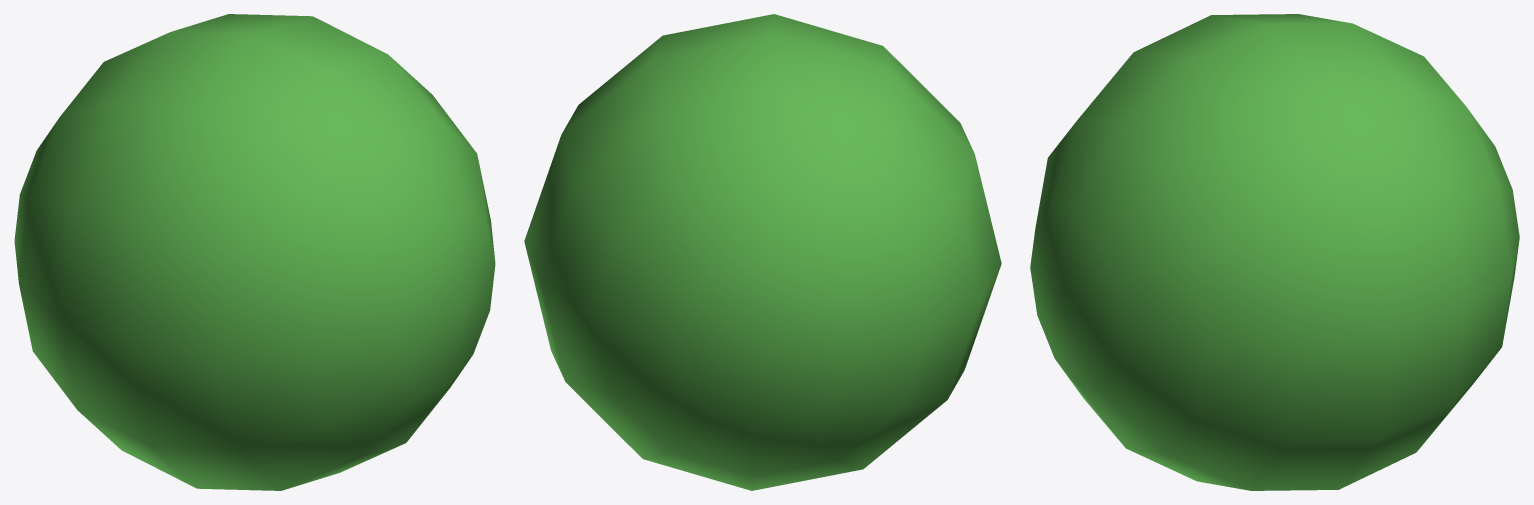
The model's file is linfatico-nasolabial-node-l.glb.
3 views of the same model, side by side, from view 1: azimuth 30°, elevation 25°; view 2: azimuth 150°, elevation 25°; view 3: azimuth 270°, elevation 25° (orthographic). The views are drawn at different scales.
Visible parts, largest first — view 1: Nasolabial node.l; view 2: Nasolabial node.l; view 3: Nasolabial node.l.
Part boxes in pixels (box(x1,y1,x2,y2)): Nasolabial node.l: box(14, 14, 495, 490); Nasolabial node.l: box(524, 14, 1001, 490); Nasolabial node.l: box(1030, 14, 1519, 490).
Size of the model in its own units: 0.00258 by 0.0026 by 0.00258.
